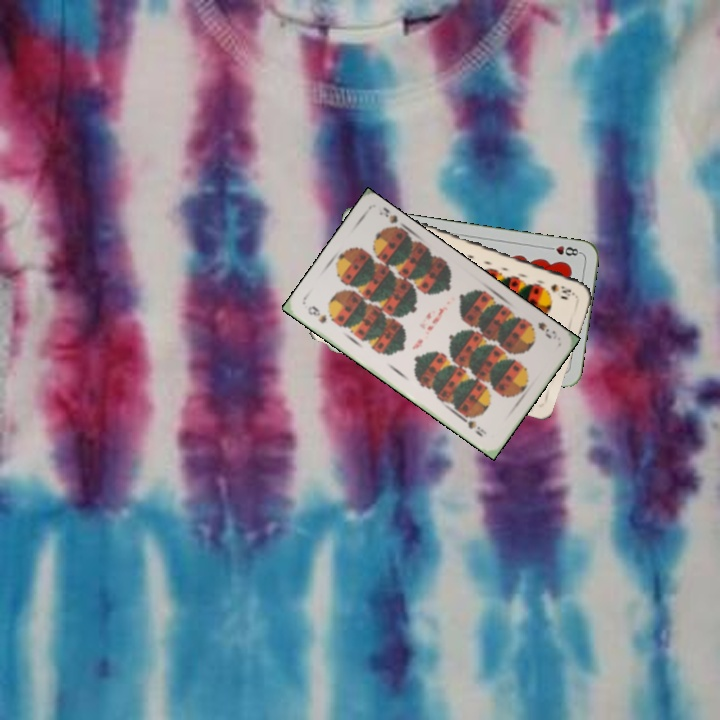H8: (543, 242, 583, 259)
S10: (547, 280, 577, 298)
S9: (523, 317, 554, 341), (303, 302, 329, 326)
